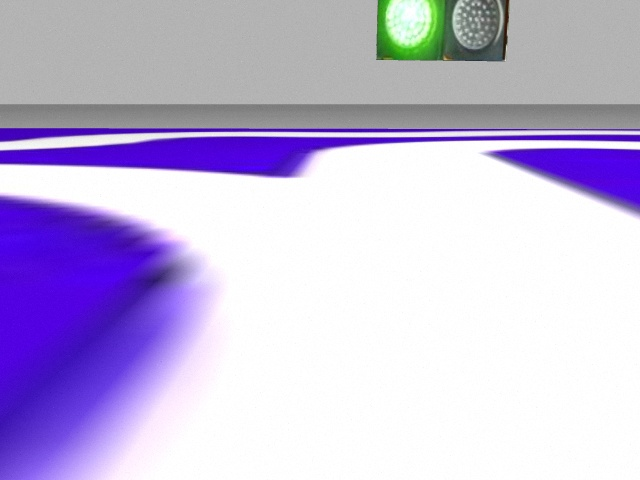green: (377, 2, 445, 62)
